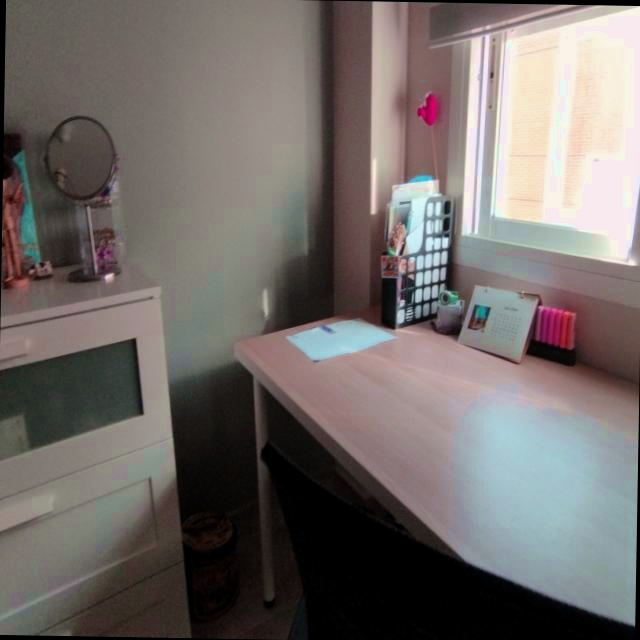cabinet: (0, 264, 191, 637)
chair: (261, 413, 635, 640)
stove: (233, 319, 639, 628)
